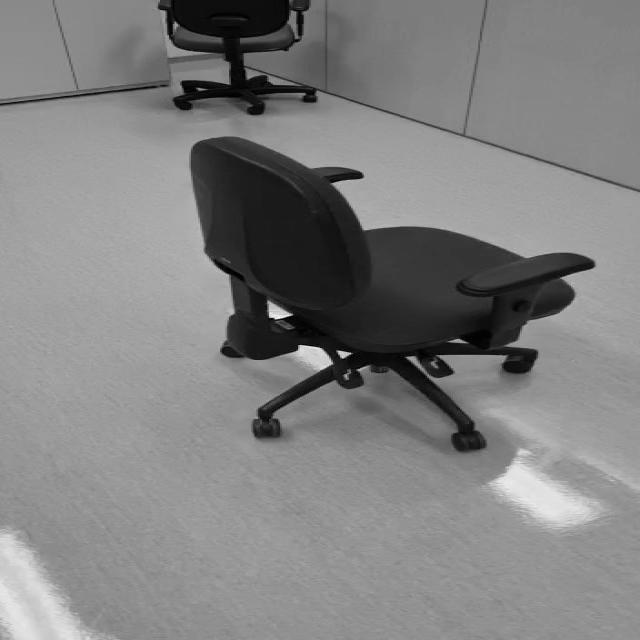cadeira-azul: (189, 136, 596, 453)
